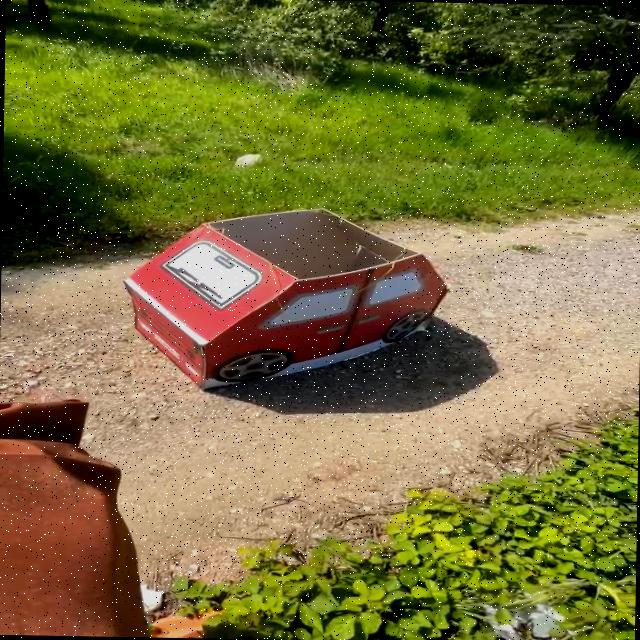red_car: (90, 198, 452, 403)
